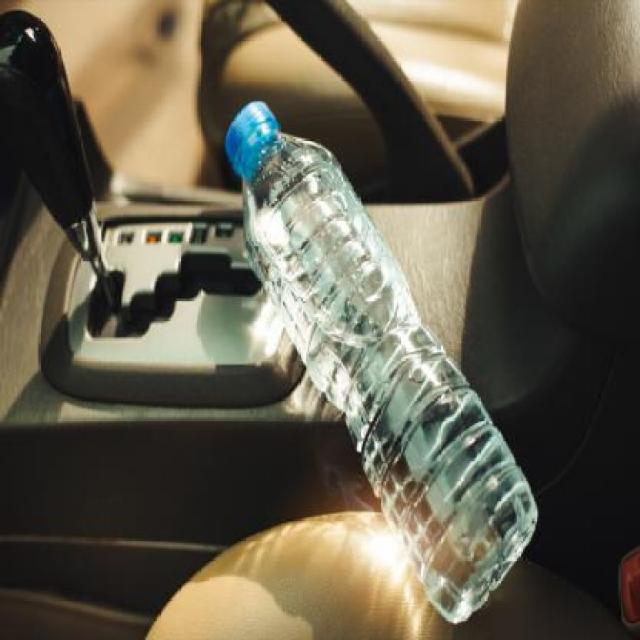bottle: (204, 103, 540, 633)
